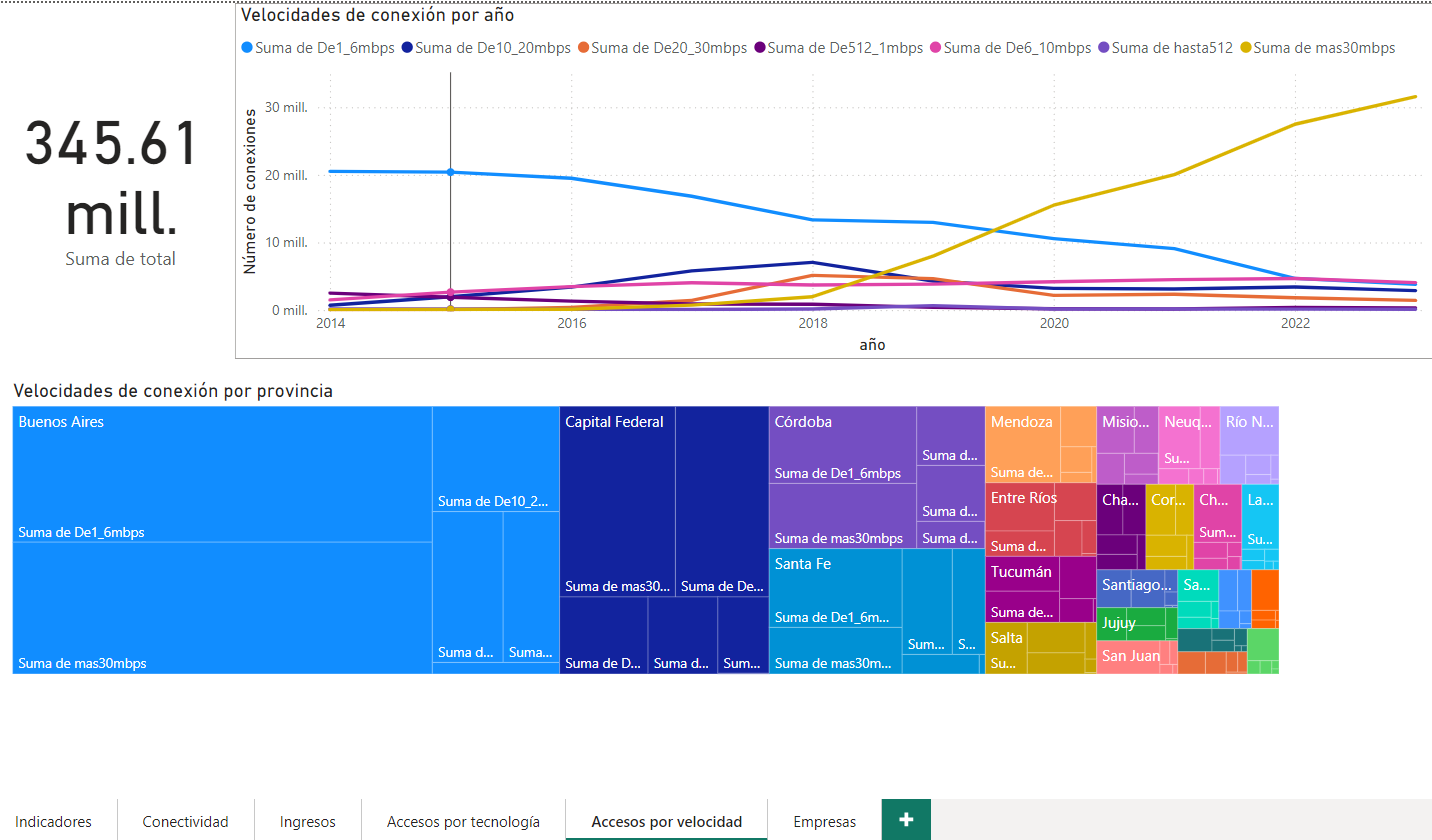

What the dashboard file says about the page in this screenshot:
{"tool":"powerbi","page":{"name":"Accesos por velocidad","canvas":[1280,720],"ordinal":4},"visuals":[{"type":"lineChart","title":"Velocidades de conexión por año","fields":{"Category":["telecomunicaciones_arg internet_accesos_velocidad.año"],"Y":["Sum(telecomunicaciones_arg internet_accesos_velocidad.De1_6mbps)","Sum(telecomunicaciones_arg internet_accesos_velocidad.De10_20mbps)","Sum(telecomunicaciones_arg internet_accesos_velocidad.De20_30mbps)","Sum(telecomunicaciones_arg internet_accesos_velocidad.De512_1mbps)","Sum(telecomunicaciones_arg internet_accesos_velocidad.De6_10mbps)","Sum(telecomunicaciones_arg internet_accesos_velocidad.hasta512)","Sum(telecomunicaciones_arg internet_accesos_velocidad.mas30mbps)"]},"box":[260,0,1020,325.6],"z":0},{"type":"treemap","title":"Velocidades de conexión por provincia","fields":{"Group":["telecomunicaciones_arg internet_accesos_velocidad.provincia"],"Values":["Sum(telecomunicaciones_arg internet_accesos_velocidad.mas30mbps)","Sum(telecomunicaciones_arg internet_accesos_velocidad.De20_30mbps)","Sum(telecomunicaciones_arg internet_accesos_velocidad.De10_20mbps)","Sum(telecomunicaciones_arg internet_accesos_velocidad.De1_6mbps)","Sum(telecomunicaciones_arg internet_accesos_velocidad.De6_10mbps)","Sum(telecomunicaciones_arg internet_accesos_velocidad.hasta512)"]},"box":[10,334.4,1270,266.7],"z":1},{"type":"card","fields":{"Values":["Sum(telecomunicaciones_arg internet_accesos_velocidad.total)"]},"box":[0,11.1,250,176.7],"z":2}]}

Visuals, with their boxes on the page's 1280x720 design canvas (x1, y1, x2, y2). These are canvas units, not pixel positions in the 1432x840 screenshot, which may show the page scaled, cropped or inside an application window:
"Velocidades de conexión por año" lineChart: (left=260, top=0, right=1280, bottom=326)
"Velocidades de conexión por provincia" treemap: (left=10, top=334, right=1280, bottom=601)
card - Sum(telecomunicaciones_arg internet_accesos_velocidad.total): (left=0, top=11, right=250, bottom=188)
